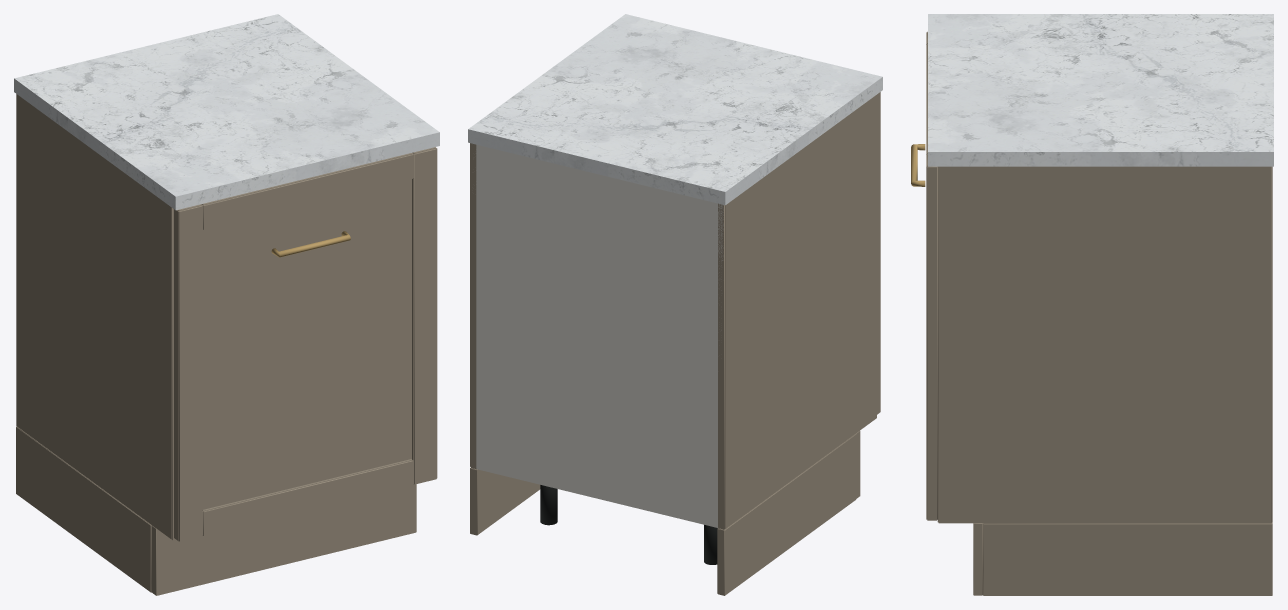
File: traditional.kitchen_base.gltf
3 views of the same model, side by side, from view 1: azimuth 30°, elevation 25°; view 2: azimuth 150°, elevation 25°; view 3: azimuth 270°, elevation 25° (orthographic). The views are drawn at different scales.
Visible parts, largest first — view 1: traditional.kitchen_base.back; view 2: traditional.kitchen_base.back; view 3: traditional.kitchen_base.back.
Part boxes in pixels (left/top/right/bottom): traditional.kitchen_base.back: left=14, top=14, right=439, bottom=595; traditional.kitchen_base.back: left=468, top=14, right=882, bottom=595; traditional.kitchen_base.back: left=911, top=14, right=1273, bottom=595.
Bounding box in the file's own units: 0.604 × 0.91 × 0.671.
Materials: 5 (1 with a texture image).
